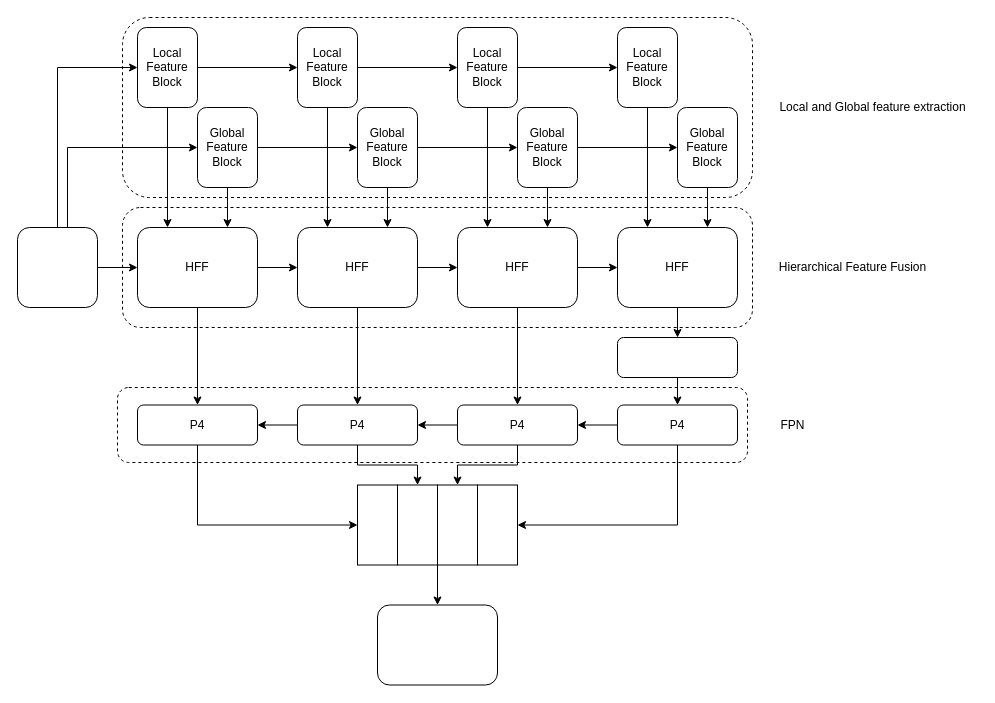
This 995x703 diagram has some shape labels left out. Here are the shapes that lost their labels. From the top down, the centre of each, then its label:
At pixel 57 267: "Input image".
At pixel 677 357: "PPM".
At pixel 437 644: "RetinaNet || DETR Head".
